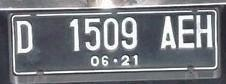0: (102, 16, 121, 54)
1: (68, 18, 82, 53)
5: (82, 16, 103, 52)
9: (120, 16, 138, 54)
A: (158, 15, 178, 50)
D: (14, 19, 35, 57)
E: (178, 13, 196, 50)
H: (195, 13, 214, 50)
